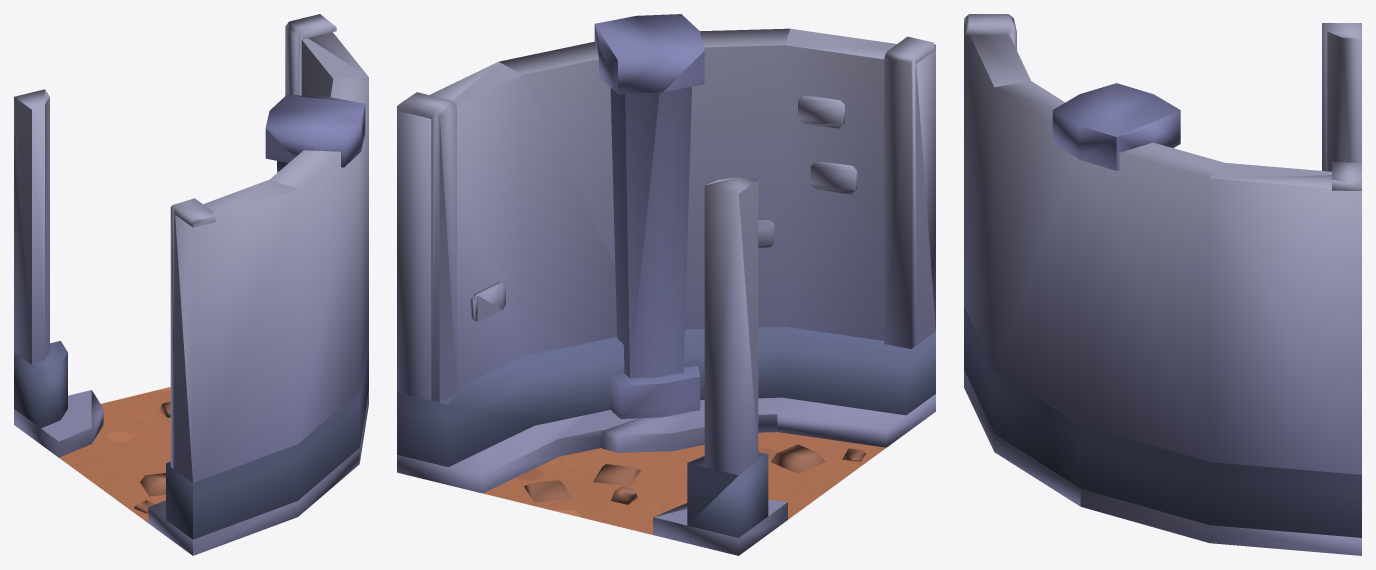
The model's file is corridor-corner.fbx.
3 views of the same model, side by side, from view 1: azimuth 30°, elevation 25°; view 2: azimuth 150°, elevation 25°; view 3: azimuth 270°, elevation 25° (orthographic). The views are drawn at different scales.
Visible parts, largest first — view 1: corridor-corner; view 2: corridor-corner; view 3: corridor-corner.
Boxes of the visible parts, x1,y1,x2,y2 form: corridor-corner: [14, 14, 368, 555]; corridor-corner: [397, 14, 935, 555]; corridor-corner: [964, 14, 1361, 555].
Bounding box in the file's own units: 400 × 423 × 400.
